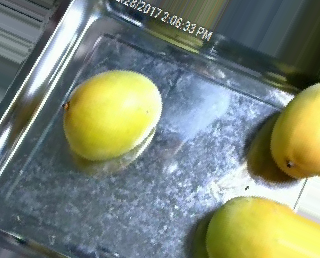Mango: (64, 68, 163, 160), (203, 195, 285, 258), (269, 83, 320, 180)
